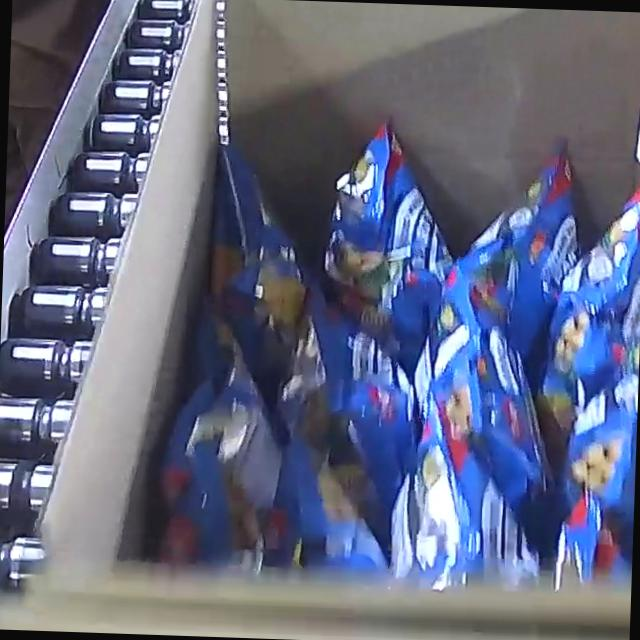paprika: (151, 105, 640, 594)
